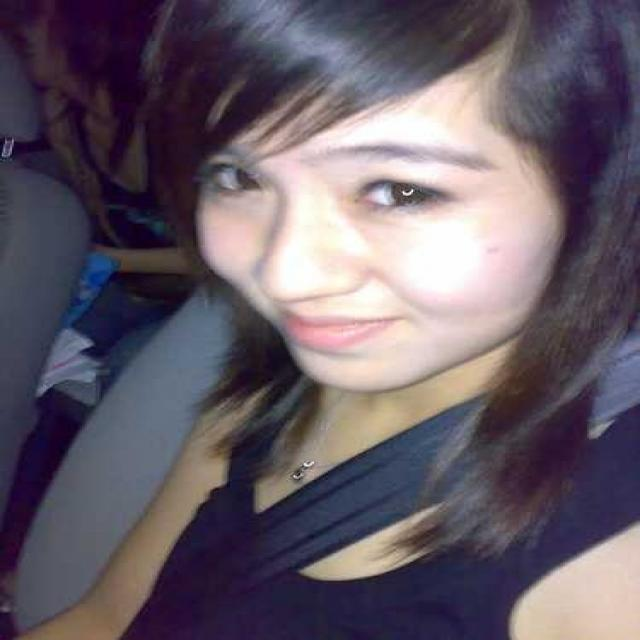seatbelt: (140, 392, 604, 596)
